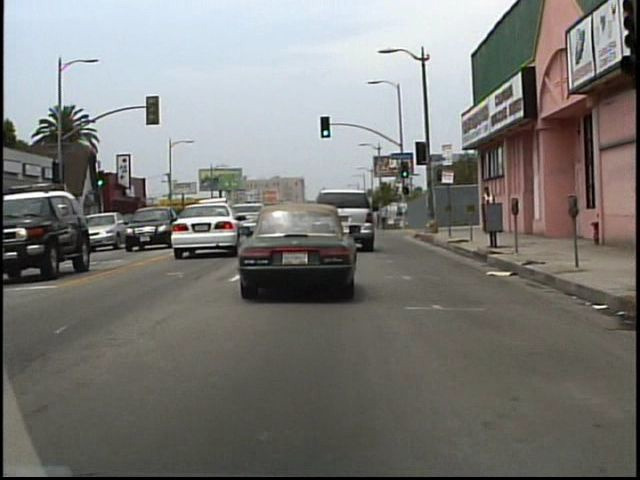person: (479, 183, 499, 235)
